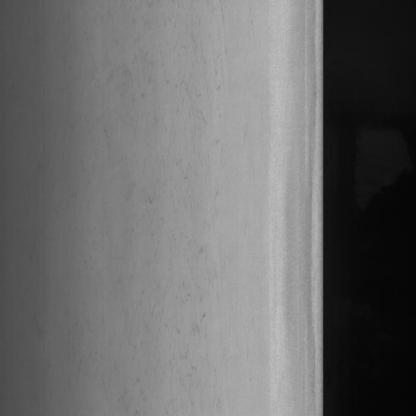silk_spot: (157, 33, 232, 395)
